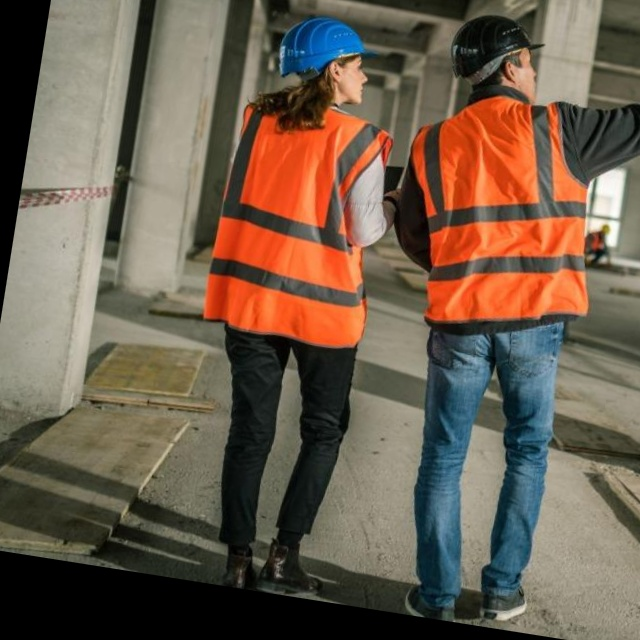Con_Casco: (269, 11, 383, 111)
Con_Chaleco: (391, 85, 619, 343), (207, 87, 407, 353)
